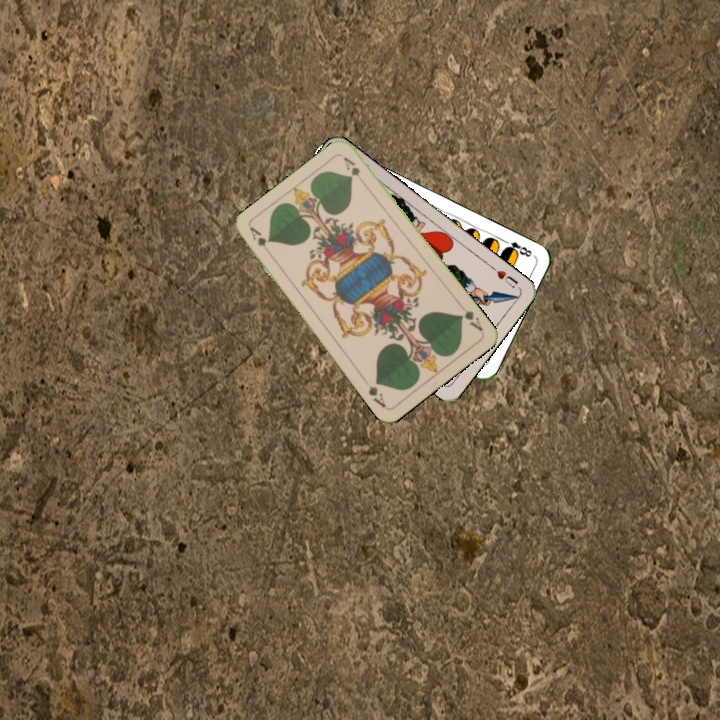E8: (498, 235, 534, 260)
GA: (246, 223, 275, 259), (455, 301, 486, 334)
HU: (487, 262, 521, 291)
